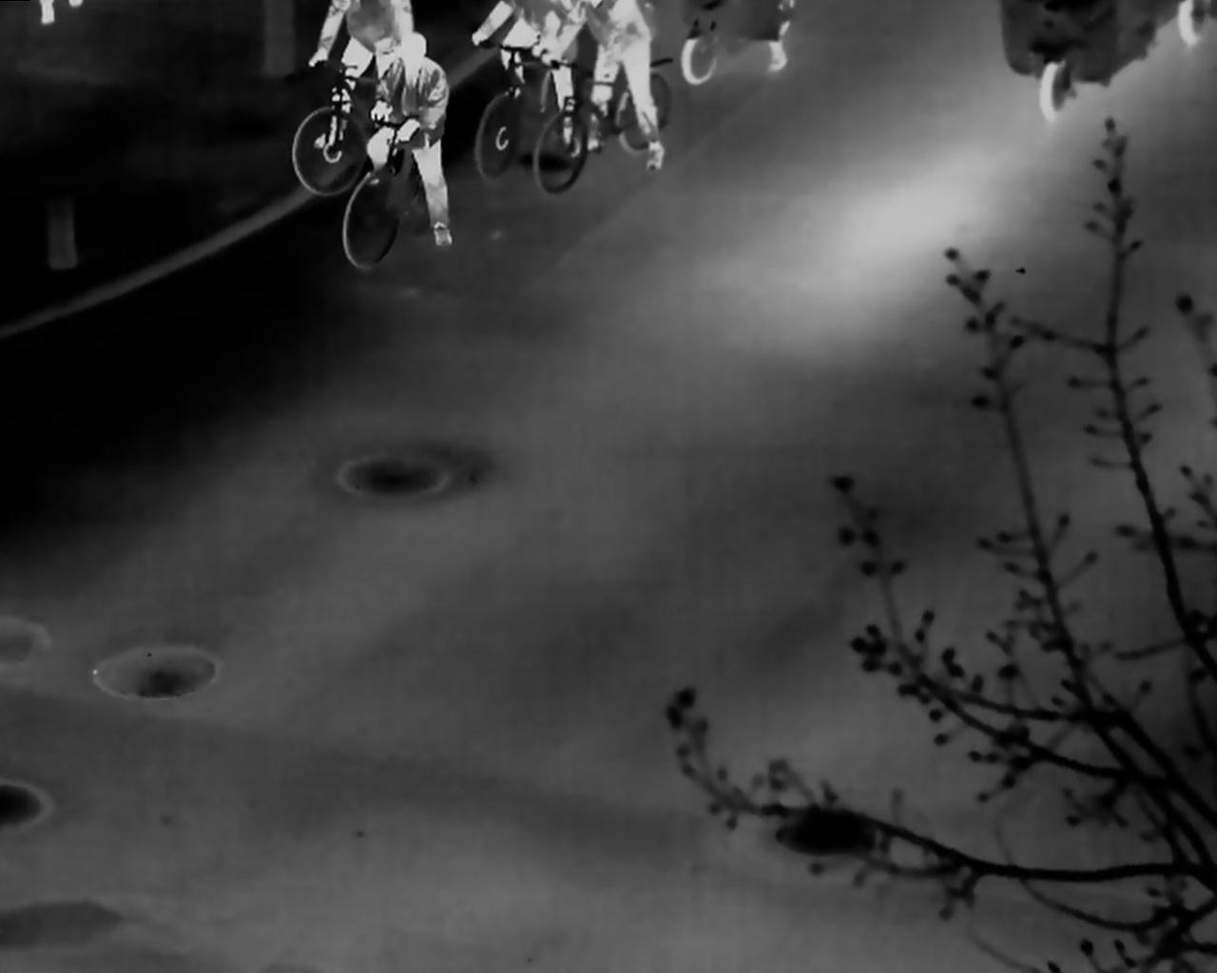person: (363, 30, 454, 249)
